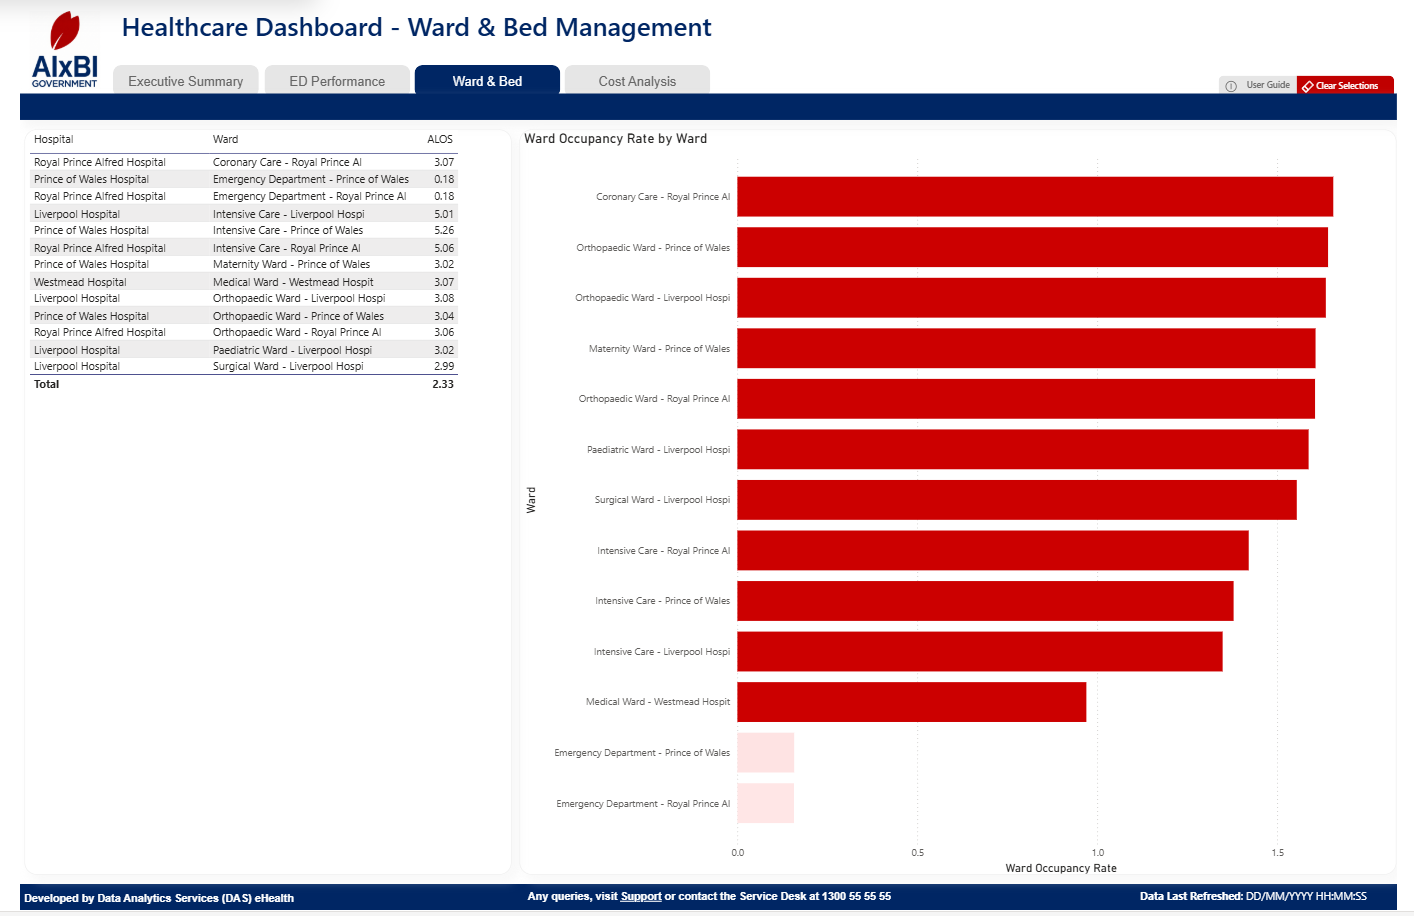

The page's visual inventory and layout, read from the dashboard file:
{"tool":"powerbi","page":{"name":"Ward & Bed","canvas":[1700,1126],"ordinal":2},"visuals":[{"type":"image","box":[5,15,100,95],"z":0},{"type":"textbox","box":[0,1093,531.2,31.1],"z":0,"group":"g1"},{"type":"textbox","box":[120,5,798.3,58.3],"z":1000,"group":"g2"},{"type":"textbox","box":[1.4,1092,1698.6,31.4],"z":1000,"group":"g1"},{"type":"actionButton","title":"User Button","box":[1479.4,95.3,107.8,25],"z":2000},{"type":"actionButton","title":"Clear Button","box":[1575.7,95,120.7,25.6],"z":3000},{"type":"group","id":"g1","title":"Footer Group","box":[0,1092,1700,32],"z":5000},{"type":"group","id":"g2","title":"Page Header","box":[120,5,798.3,58.3],"z":6000},{"type":"actionButton","title":"Account Button","box":[114.3,81.4,180,40],"z":7000},{"type":"actionButton","title":"Account Button","box":[302,81.7,180,40],"z":8000},{"type":"actionButton","title":"Account Button","box":[487.1,81.4,180,40],"z":9000},{"type":"actionButton","title":"Account Button","box":[672.3,81.5,180,40],"z":10000},{"type":"shape","box":[0,115.8,1700,32.9],"z":11000},{"type":"tableEx","fields":{"Values":["dim_ward.hospital","dim_ward.ward_name","fact_admissions.ALOS"]},"box":[5.7,161.4,601.4,920],"z":12000},{"type":"barChart","fields":{"Category":["dim_ward.ward_name"],"Y":["fact_admissions.Ward Occupancy Rate"]},"box":[617.1,161.4,1082.9,920],"z":13000},{"type":"textbox","box":[1377.1,1092.9,322.9,31.4],"z":14000}]}

Visuals, with their boxes in screenshot pixels (x1, y1, x2, y2), scaled from the page's 1700x1126 canvas onto the 1414x916 screenshot:
image: select_region(4, 12, 87, 89)
textbox: select_region(0, 889, 442, 914)
textbox: select_region(100, 4, 764, 51)
textbox: select_region(1, 888, 1413, 914)
"User Button" actionButton: select_region(1231, 78, 1320, 98)
"Clear Button" actionButton: select_region(1311, 77, 1411, 98)
"Footer Group" group: select_region(0, 888, 1413, 914)
"Page Header" group: select_region(100, 4, 764, 51)
"Account Button" actionButton: select_region(95, 66, 245, 99)
"Account Button" actionButton: select_region(251, 66, 401, 99)
"Account Button" actionButton: select_region(405, 66, 555, 99)
"Account Button" actionButton: select_region(559, 66, 709, 99)
shape: select_region(0, 94, 1413, 121)
tableEx - dim_ward.hospital x dim_ward.ward_name: select_region(5, 131, 505, 880)
barChart - dim_ward.ward_name x fact_admissions.Ward Occupancy Rate: select_region(513, 131, 1413, 880)
textbox: select_region(1145, 889, 1413, 915)
